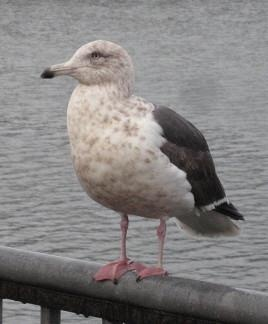bird: (38, 39, 246, 283)
